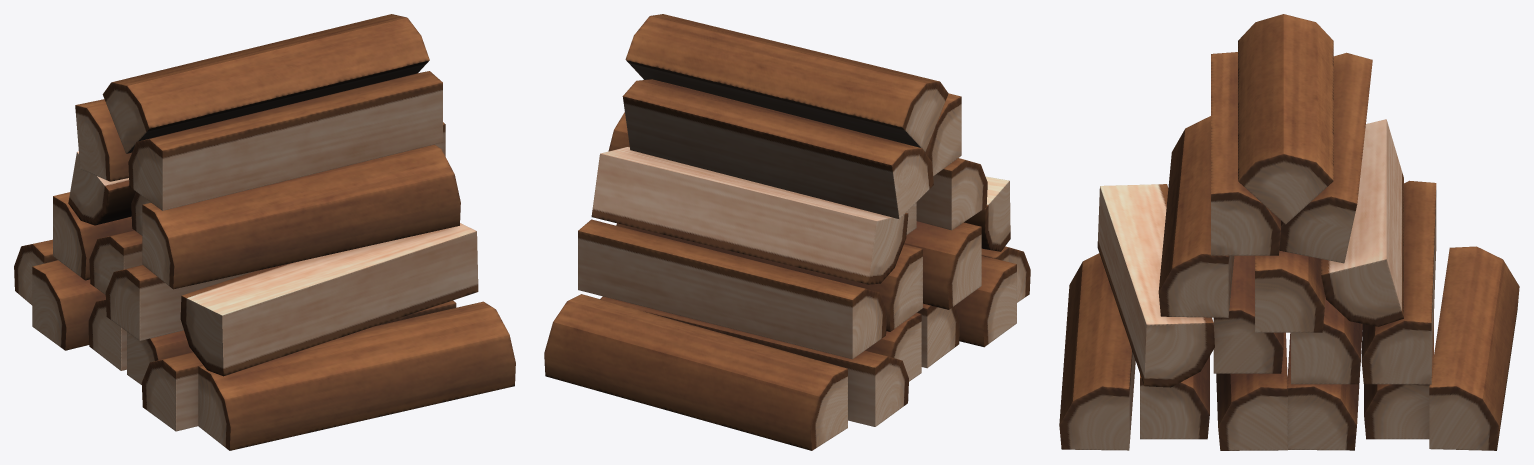
The model's file is wooddummy.fbx.
The picture shows the model from 3 angles, left to right: view 1: azimuth 30°, elevation 25°; view 2: azimuth 150°, elevation 25°; view 3: azimuth 270°, elevation 25°; orthographic projection. The views are drawn at different scales.
Parts seen in each view (by area): view 1: wooddummy; view 2: wooddummy; view 3: wooddummy.
Boxes of the visible parts, left/top/right/bottom form: wooddummy: left=14, top=14, right=515, bottom=450; wooddummy: left=544, top=14, right=1030, bottom=450; wooddummy: left=1059, top=14, right=1519, bottom=450.
Size of the model in its own units: 5.54 by 4.7 by 6.61.
